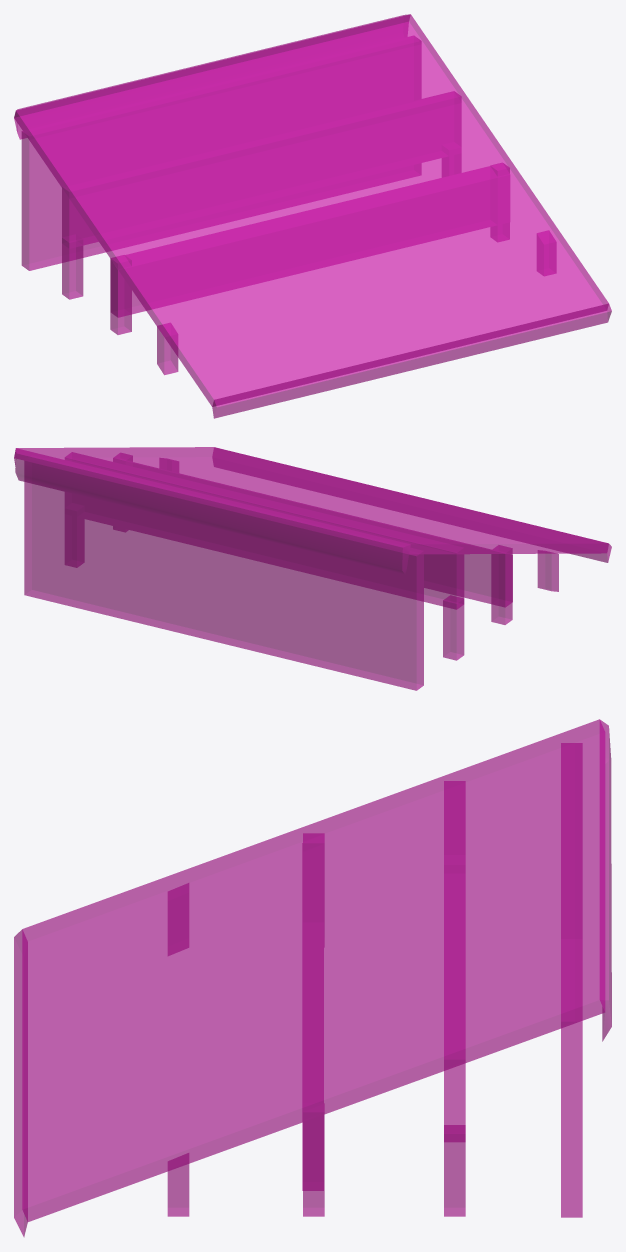
The model's file is SM_Prop_Ramp_Large_01_Collision.fbx.
3 views of the same model, one above another, from view 1: azimuth 30°, elevation 25°; view 2: azimuth 150°, elevation 25°; view 3: azimuth 270°, elevation 25° (orthographic). The views are drawn at different scales.
Parts seen in each view (by area): view 1: SM_Prop_Ramp_Large_01_Collision; view 2: SM_Prop_Ramp_Large_01_Collision; view 3: SM_Prop_Ramp_Large_01_Collision.
Part boxes in pixels (x1,y1,x2,y2): SM_Prop_Ramp_Large_01_Collision: [14, 14, 611, 418]; SM_Prop_Ramp_Large_01_Collision: [14, 447, 611, 690]; SM_Prop_Ramp_Large_01_Collision: [14, 719, 611, 1236].
Bounding box in the file's own units: 1757 × 695 × 1582.
